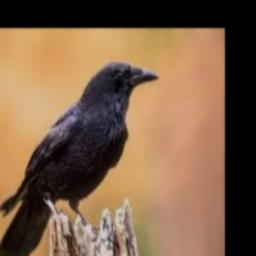Crow: (0, 62, 160, 256)
